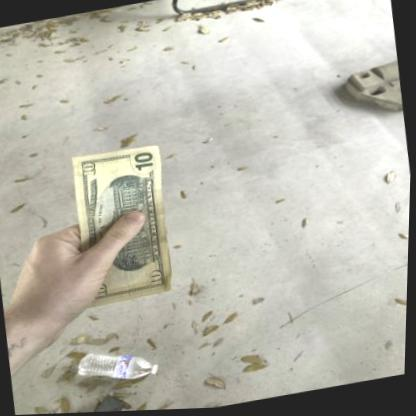ten-back: (67, 143, 181, 309)
